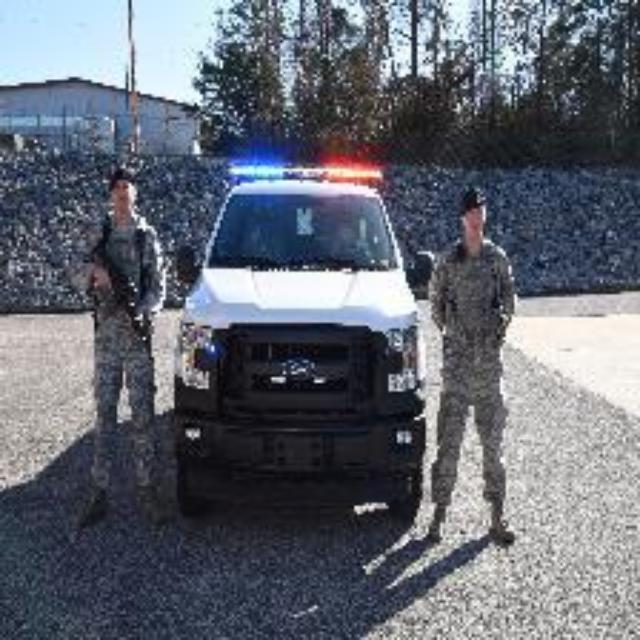emergency: (182, 158, 424, 514)
